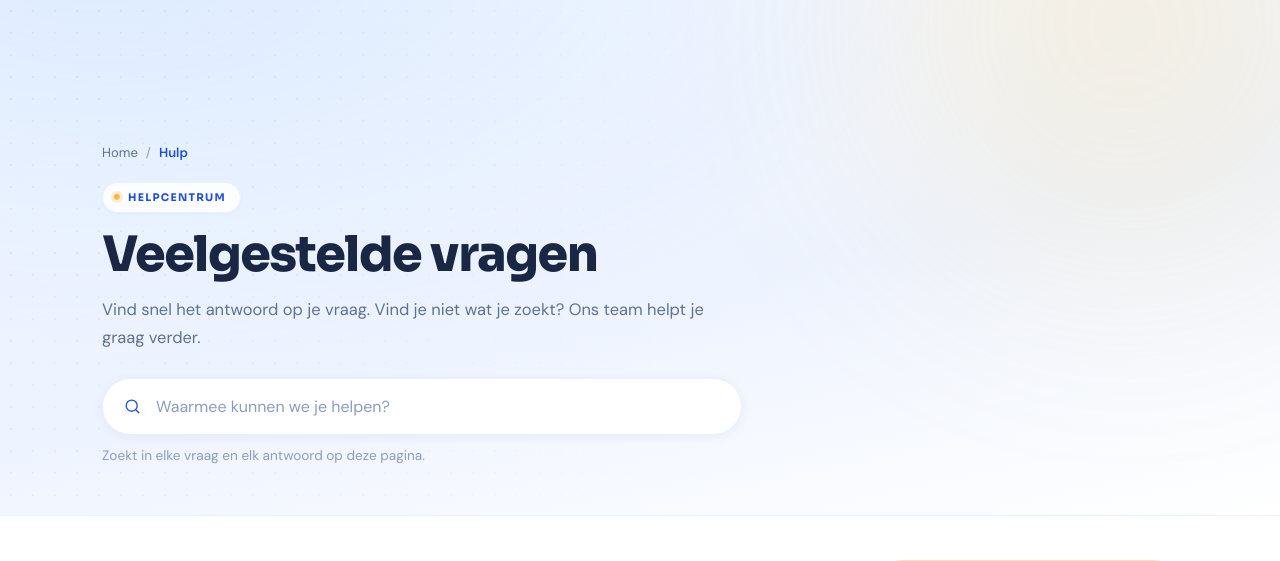
Test: FAQ page › searches answers as well as questions
The width and height of the screenshot is (1280, 561).
Type "PCI-DSS" into the search field named "zoek in de veelgestelde vragen" at coordinates (442, 406), box [142,379,741,434]
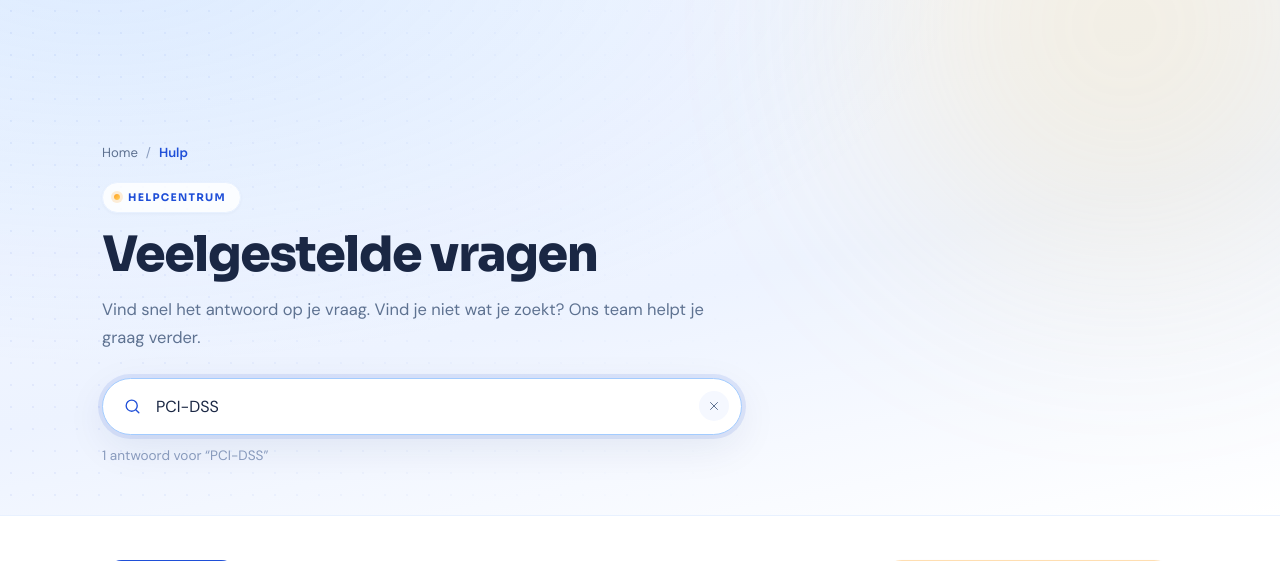
Check: the message shows "1 antwoord", box [102,447,268,464]
